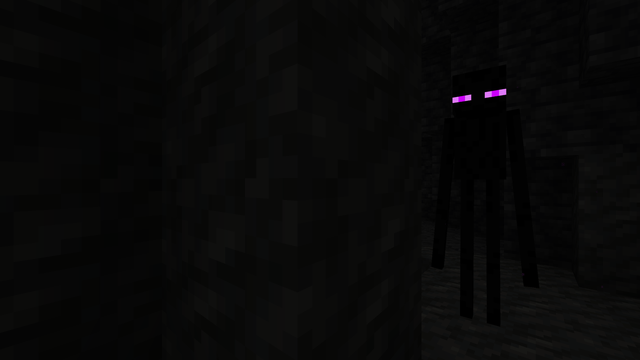endermens: (445, 52, 513, 340)
